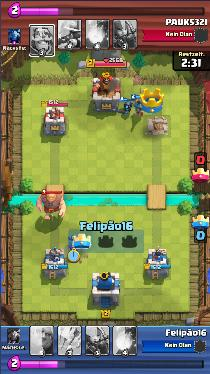ally_knight: (134, 92, 144, 115)
ally_mini_pekka: (118, 99, 133, 114)
enemy_giant: (35, 192, 66, 220)
